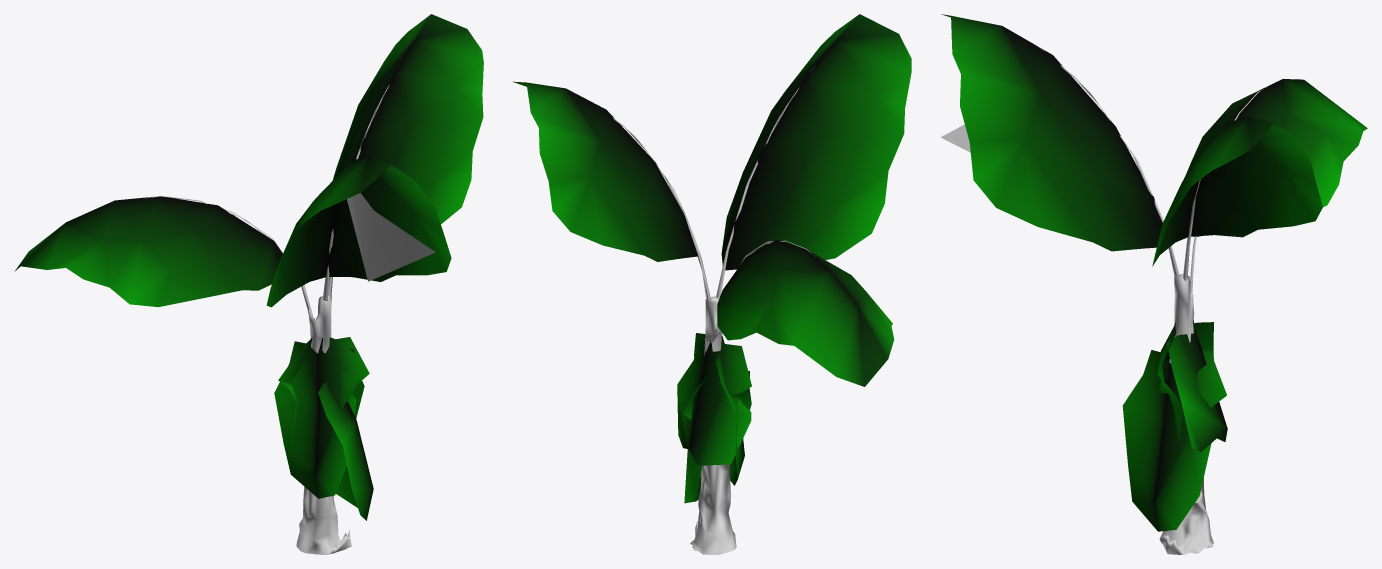
The model's file is CoconutPalmTree04_afsTREE_xlprl05_xlod03.fbx.
3 views of the same model, side by side, from view 1: azimuth 30°, elevation 25°; view 2: azimuth 150°, elevation 25°; view 3: azimuth 270°, elevation 25° (orthographic). The views are drawn at different scales.
Parts seen in each view (by area): view 1: PalmBranch01_xw07_xt08_xlp00.004, PalmBranch01_xw10_xt08_xlp00.003, PalmBranch01_xw10_xt09_xlp00.004, DeadPalmBranch_xw01_xt02_xlp01_xp01, PalmBlade02_bent_right_xw03_xt05_xlp05.005, trunk_CoconutPalmTree04_xw03_xt03_xlp03, DeadPalmBranch_xw02_xt03_xlp02_xp03.006, DeadPalmBranch_xw01_xt02_xlp01; view 2: PalmBranch01_xw10_xt09_xlp00.004, PalmBranch01_xw10_xt08_xlp00.003, PalmBranch01_xw07_xt08_xlp00.004, DeadPalmBranch_xw01_xt02_xlp01, trunk_CoconutPalmTree04_xw03_xt03_xlp03, DeadPalmBranch_xw02_xt03_xlp02_xp03.006, DeadPalmBranch_xw01_xt02_xlp01_xp01, PalmBranch01_xw10_xt08_xlp06_xp03, PalmBranch01_xw10_xt09_xlp08_xp08; view 3: PalmBranch01_xw10_xt09_xlp00.004, PalmBranch01_xw10_xt08_xlp00.003, DeadPalmBranch_xw02_xt03_xlp02_xp03.006, PalmBranch01_xw07_xt08_xlp00.004, DeadPalmBranch_xw01_xt02_xlp01, trunk_CoconutPalmTree04_xw03_xt03_xlp03, DeadPalmBranch_xw01_xt02_xlp01_xp01, PalmBranch01_xw10_xt09_xlp08_xp08.
Part boxes in pixels (x1=…): PalmBranch01_xw07_xt08_xlp00.004: x1=14, y1=196, x2=282, y2=307; PalmBranch01_xw10_xt08_xlp00.003: x1=332, y1=14, x2=483, y2=223; PalmBranch01_xw10_xt09_xlp00.004: x1=266, y1=156, x2=451, y2=307; DeadPalmBranch_xw01_xt02_xlp01_xp01: x1=274, y1=337, x2=369, y2=498; PalmBlade02_bent_right_xw03_xt05_xlp05.005: x1=347, y1=193, x2=435, y2=281; trunk_CoconutPalmTree04_xw03_xt03_xlp03: x1=296, y1=295, x2=351, y2=554; DeadPalmBranch_xw02_xt03_xlp02_xp03.006: x1=318, y1=382, x2=373, y2=520; DeadPalmBranch_xw01_xt02_xlp01: x1=278, y1=337, x2=364, y2=440; PalmBranch01_xw10_xt09_xlp00.004: x1=721, y1=14, x2=911, y2=270; PalmBranch01_xw10_xt08_xlp00.003: x1=513, y1=81, x2=697, y2=261; PalmBranch01_xw07_xt08_xlp00.004: x1=717, y1=240, x2=894, y2=386; DeadPalmBranch_xw01_xt02_xlp01: x1=677, y1=340, x2=751, y2=465; trunk_CoconutPalmTree04_xw03_xt03_xlp03: x1=690, y1=296, x2=736, y2=554; DeadPalmBranch_xw02_xt03_xlp02_xp03.006: x1=683, y1=371, x2=751, y2=503; DeadPalmBranch_xw01_xt02_xlp01_xp01: x1=694, y1=333, x2=744, y2=485; PalmBranch01_xw10_xt08_xlp06_xp03: x1=613, y1=118, x2=710, y2=300; PalmBranch01_xw10_xt09_xlp08_xp08: x1=716, y1=68, x2=813, y2=298; PalmBranch01_xw10_xt09_xlp00.004: x1=942, y1=14, x2=1162, y2=251; PalmBranch01_xw10_xt08_xlp00.003: x1=1152, y1=116, x2=1322, y2=266; DeadPalmBranch_xw02_xt03_xlp02_xp03.006: x1=1122, y1=350, x2=1226, y2=531; PalmBranch01_xw07_xt08_xlp00.004: x1=1186, y1=79, x2=1367, y2=236; DeadPalmBranch_xw01_xt02_xlp01: x1=1167, y1=318, x2=1227, y2=451; trunk_CoconutPalmTree04_xw03_xt03_xlp03: x1=1159, y1=274, x2=1214, y2=554; DeadPalmBranch_xw01_xt02_xlp01_xp01: x1=1157, y1=318, x2=1213, y2=440; PalmBranch01_xw10_xt09_xlp08_xp08: x1=1039, y1=47, x2=1179, y2=276.
Size of what is drawn, in the model's own units: 7.18 by 5.92 by 7.75.
